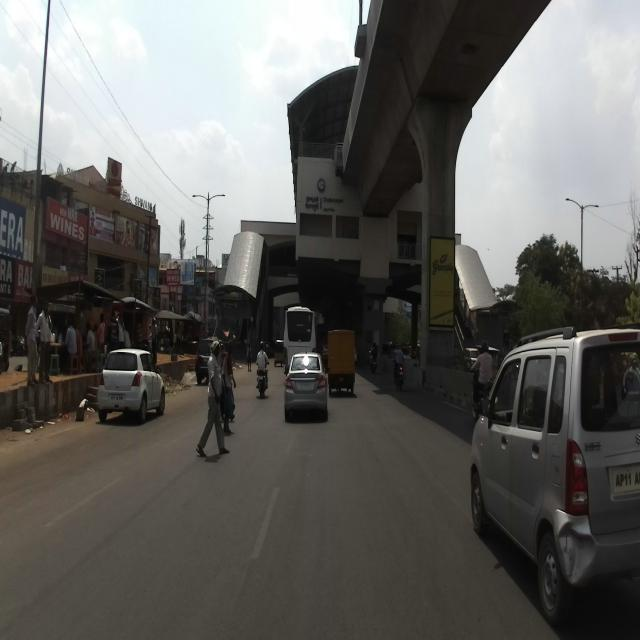Car_Maruti-Suzuki: (469, 318, 639, 626), (96, 347, 165, 424), (283, 349, 330, 421)
